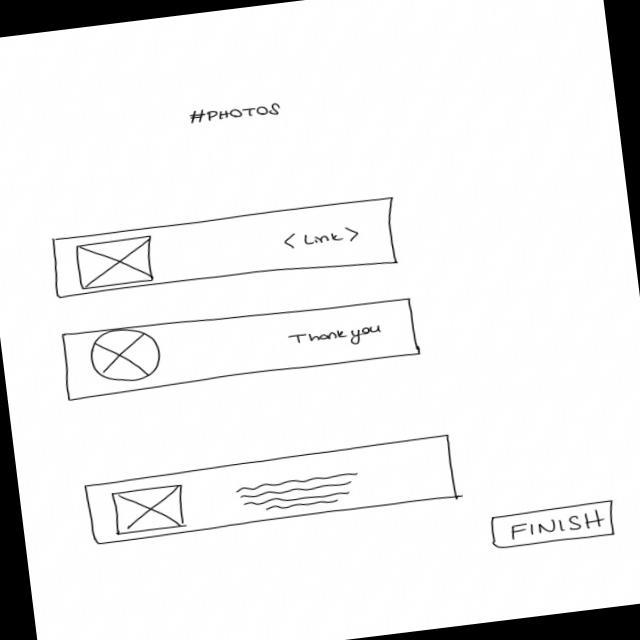button: (486, 498, 618, 552)
container: (81, 432, 462, 546), (56, 288, 424, 402), (46, 192, 406, 308)
image: (86, 324, 166, 387), (72, 234, 156, 291), (107, 482, 187, 536)
label: (184, 97, 284, 130), (284, 321, 384, 354), (280, 222, 362, 252)
textbox: (234, 469, 363, 515)
